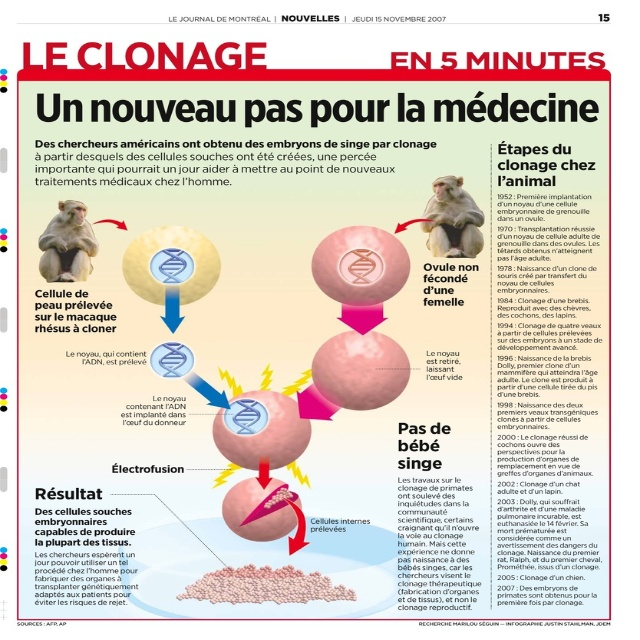Monkey: (37, 199, 102, 281), (423, 175, 486, 259)
